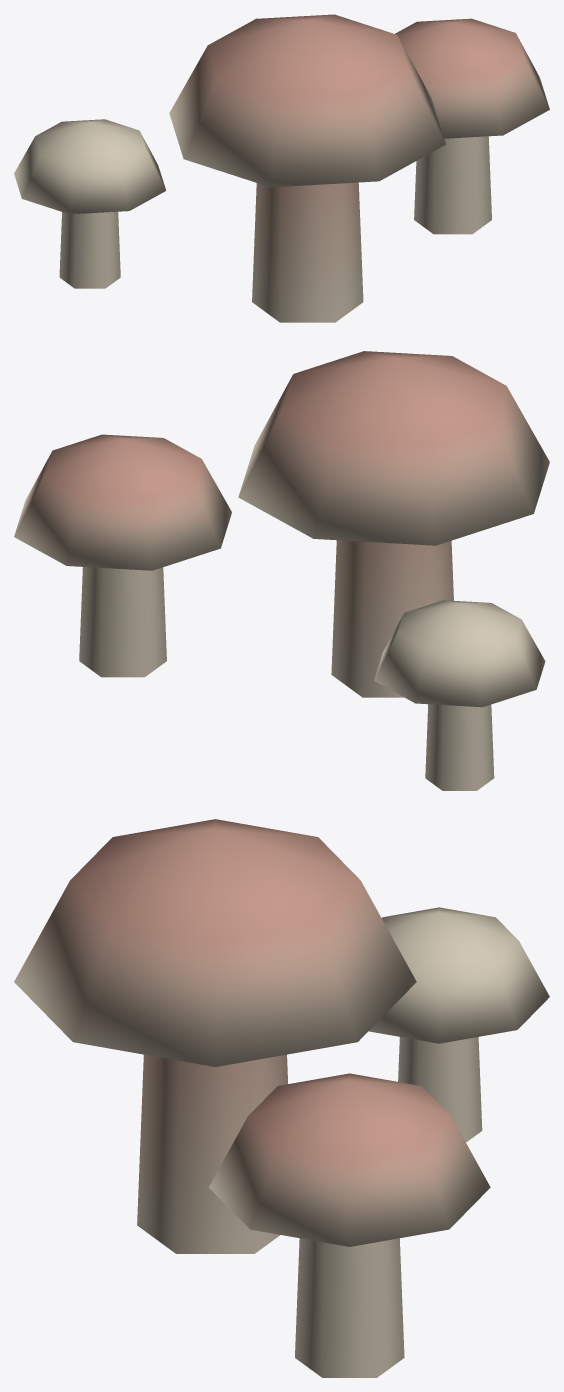
The model's file is Kit_Nature_Mushrooms_01.glb.
3 renders of one model, top to bottom at view 1: azimuth 30°, elevation 25°; view 2: azimuth 150°, elevation 25°; view 3: azimuth 270°, elevation 25°, orthographic. The views are drawn at different scales.
Parts seen in each view (by area): view 1: EX_Mushrooms01_Stone; view 2: EX_Mushrooms01_Stone; view 3: EX_Mushrooms01_Stone.
Part boxes in pixels (x1,y1,x2,y2): EX_Mushrooms01_Stone: (14, 14, 549, 322); EX_Mushrooms01_Stone: (14, 351, 549, 790); EX_Mushrooms01_Stone: (14, 819, 549, 1377).
Bounding box in the file's own units: 0.3525 × 0.195 × 0.2395.
